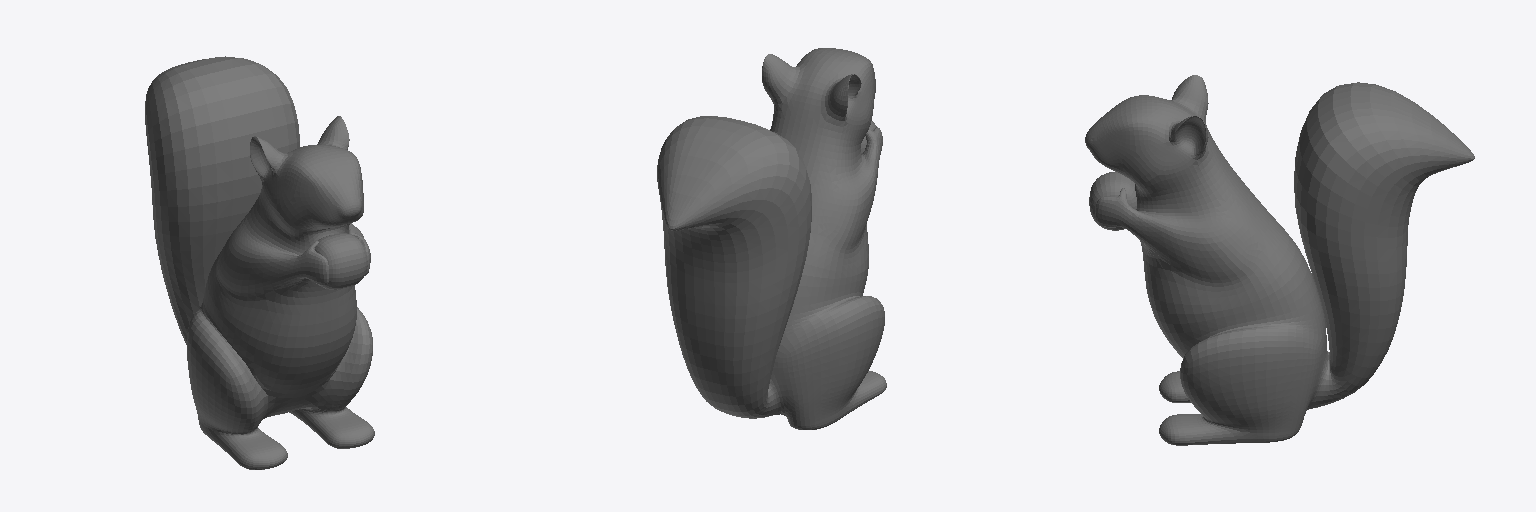
File: ardilla.obj
3 views of the same model, side by side, from view 1: azimuth 30°, elevation 25°; view 2: azimuth 150°, elevation 25°; view 3: azimuth 270°, elevation 25° (orthographic).
Visible parts, largest first — view 1: 10051_Squirrel_v2; view 2: 10051_Squirrel_v2; view 3: 10051_Squirrel_v2.
Boxes of the visible parts, x1=… form: 10051_Squirrel_v2: x1=145, y1=56, x2=374, y2=469; 10051_Squirrel_v2: x1=657, y1=48, x2=886, y2=429; 10051_Squirrel_v2: x1=1085, y1=75, x2=1474, y2=445.
Size of the model in its own units: 1.72 by 3.32 by 3.66.